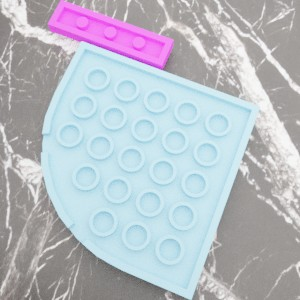lego: (41, 41, 260, 300), (47, 0, 173, 71)
